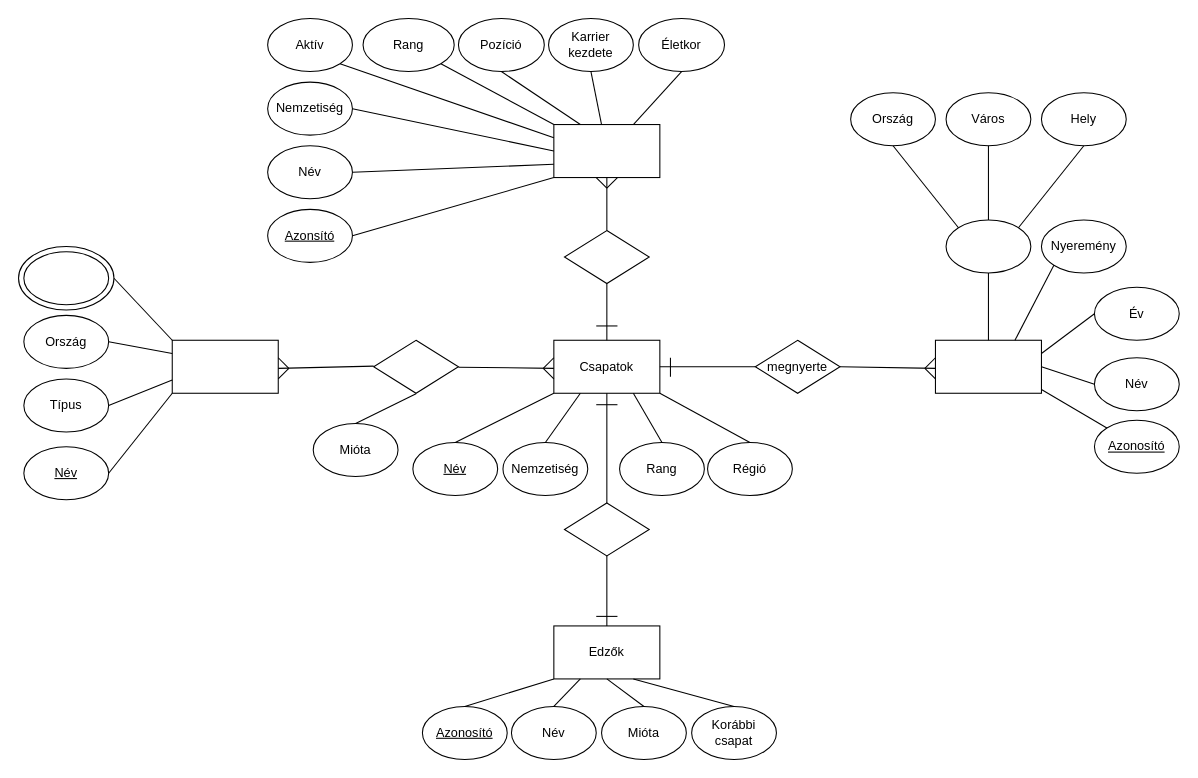
This 1198x778 diagram has some shape labels left out. Here are the shapes that lost their labels. From the top down, the centre of each, then its label:
the point at 606,150: Játékosok
the point at 606,256: játszik
the point at 988,246: ( Helyszín )
the point at 66,278: Tulajdonos
the point at 224,366: Szponzorok
the point at 415,366: szponzorál
the point at 987,366: Események
the point at 606,529: edz
